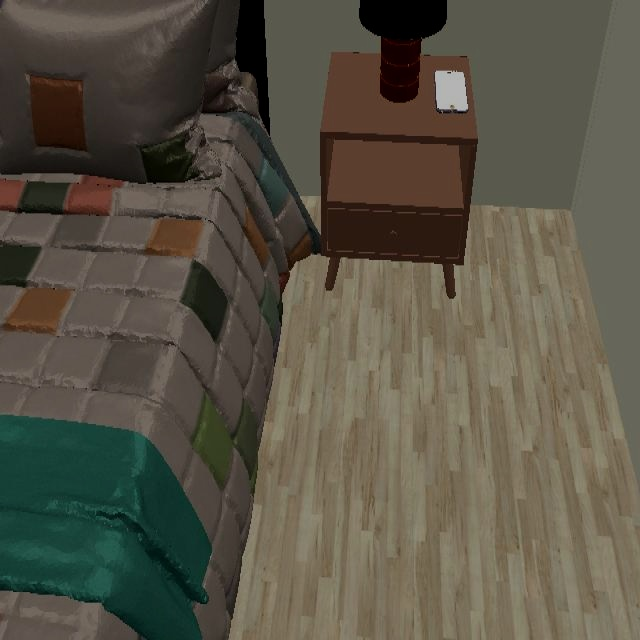lamp: (362, 0, 446, 103)
nighttable: (319, 52, 479, 292)
